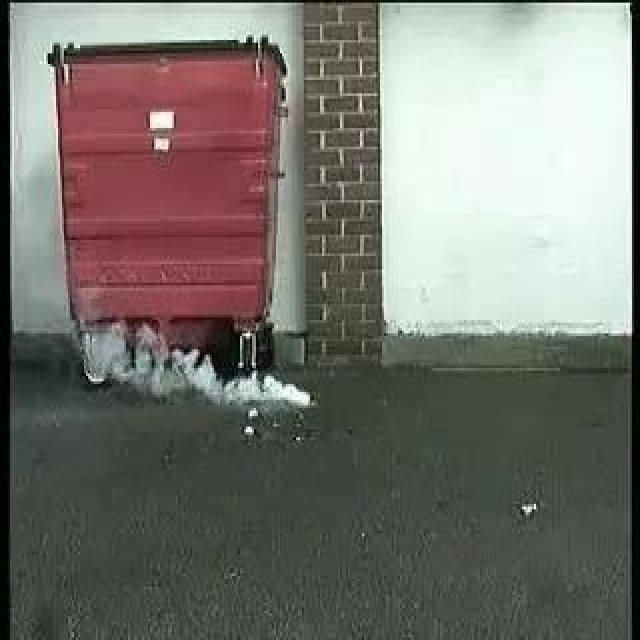Smoke: (82, 320, 310, 403)
